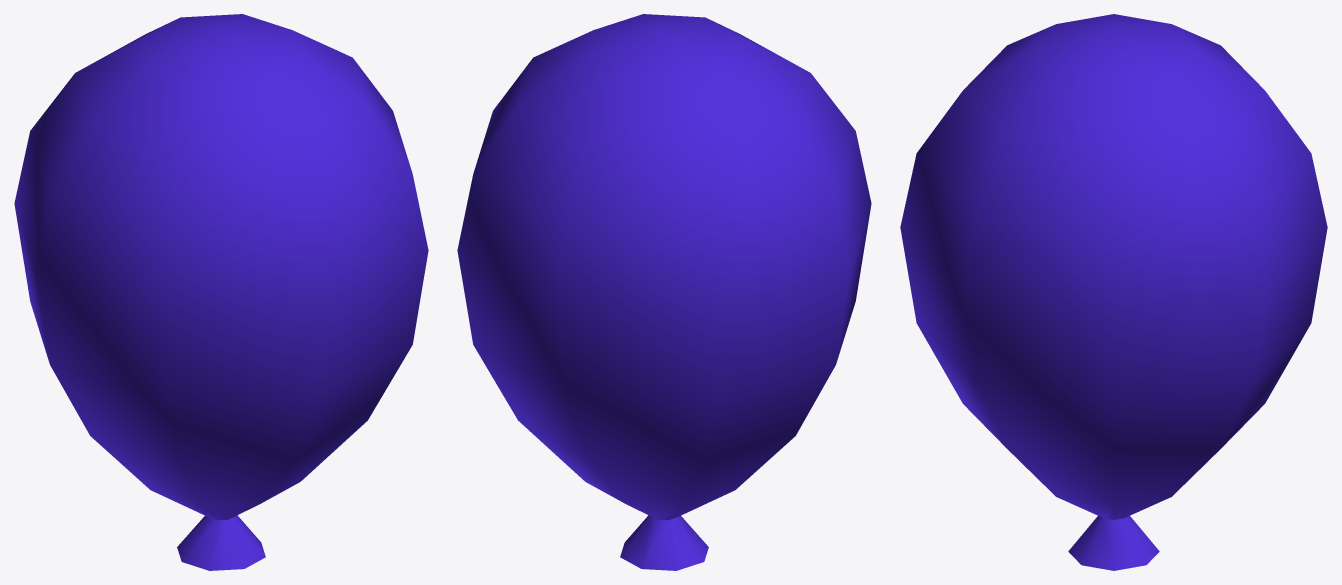
File: SM_Balloon.fbx
3 views of the same model, side by side, from view 1: azimuth 30°, elevation 25°; view 2: azimuth 150°, elevation 25°; view 3: azimuth 270°, elevation 25° (orthographic).
Parts seen in each view (by area): view 1: SM_Balloon; view 2: SM_Balloon; view 3: SM_Balloon.
Boxes of the visible parts, left/top/right/bottom form: SM_Balloon: left=14, top=14, right=428, bottom=570; SM_Balloon: left=457, top=14, right=871, bottom=570; SM_Balloon: left=900, top=14, right=1327, bottom=570.
Size of the model in its own units: 200 by 267 by 200.
